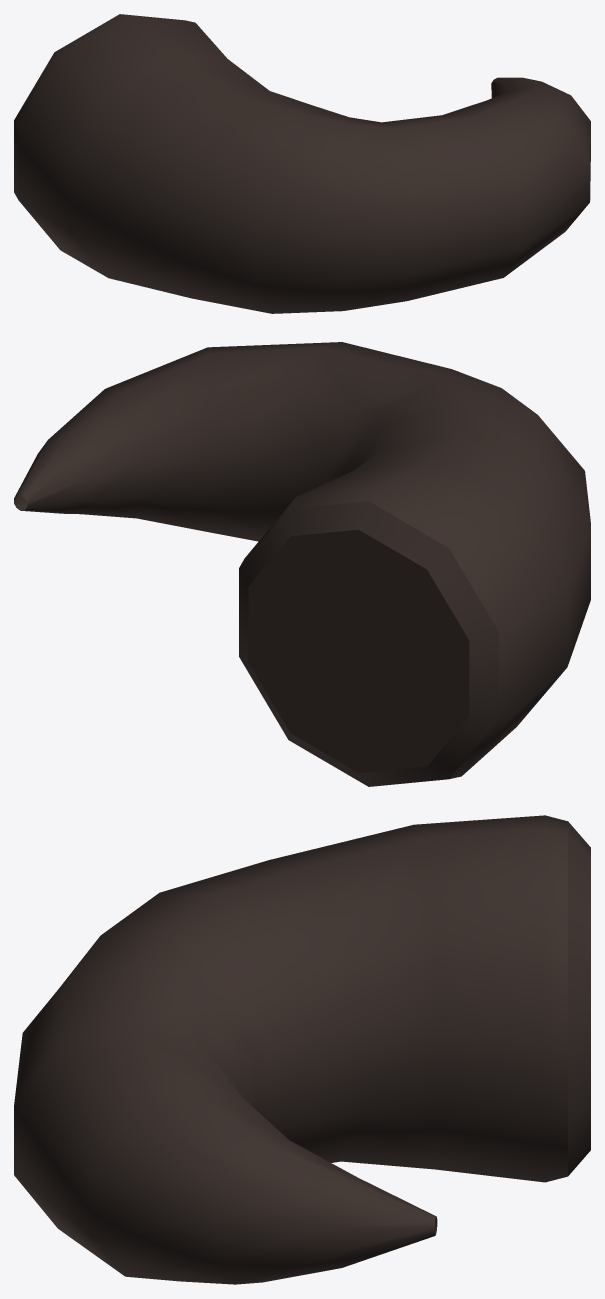
File: Horn_01.fbx
3 renders of one model, top to bottom at view 1: azimuth 30°, elevation 25°; view 2: azimuth 150°, elevation 25°; view 3: azimuth 270°, elevation 25°, orthographic. The views are drawn at different scales.
Parts seen in each view (by area): view 1: Horn_01; view 2: Horn_01; view 3: Horn_01.
Boxes of the visible parts, <box> form: Horn_01: <box>14,14,590,313</box>; Horn_01: <box>14,342,590,786</box>; Horn_01: <box>14,815,590,1284</box>.
Size of the model in its own units: 0.1593 by 0.0795 by 0.1226.
